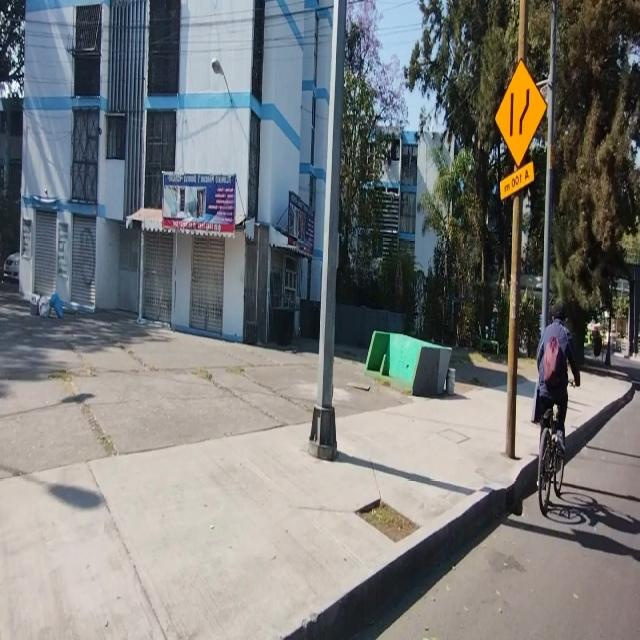adult: (536, 300, 581, 478)
